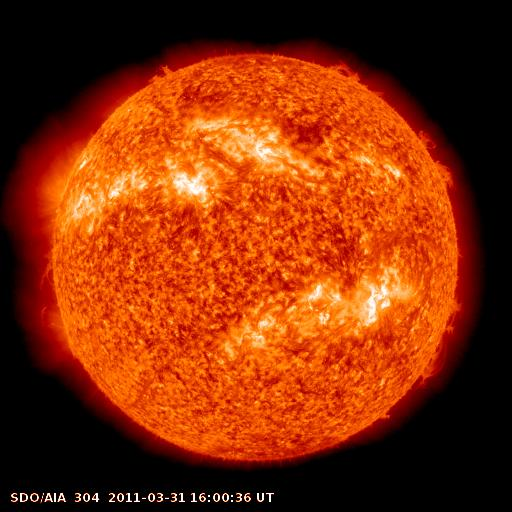prominence: (410, 286, 470, 397), (19, 245, 77, 358), (404, 123, 467, 193), (317, 51, 389, 100), (142, 56, 186, 92)
